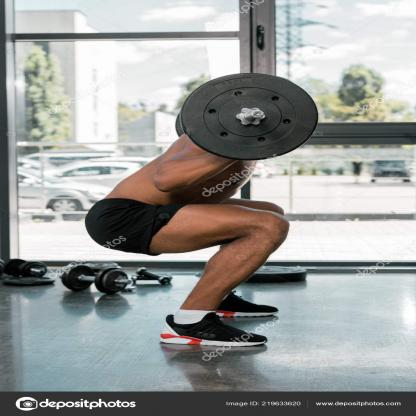Barbell: (180, 68, 322, 161)
